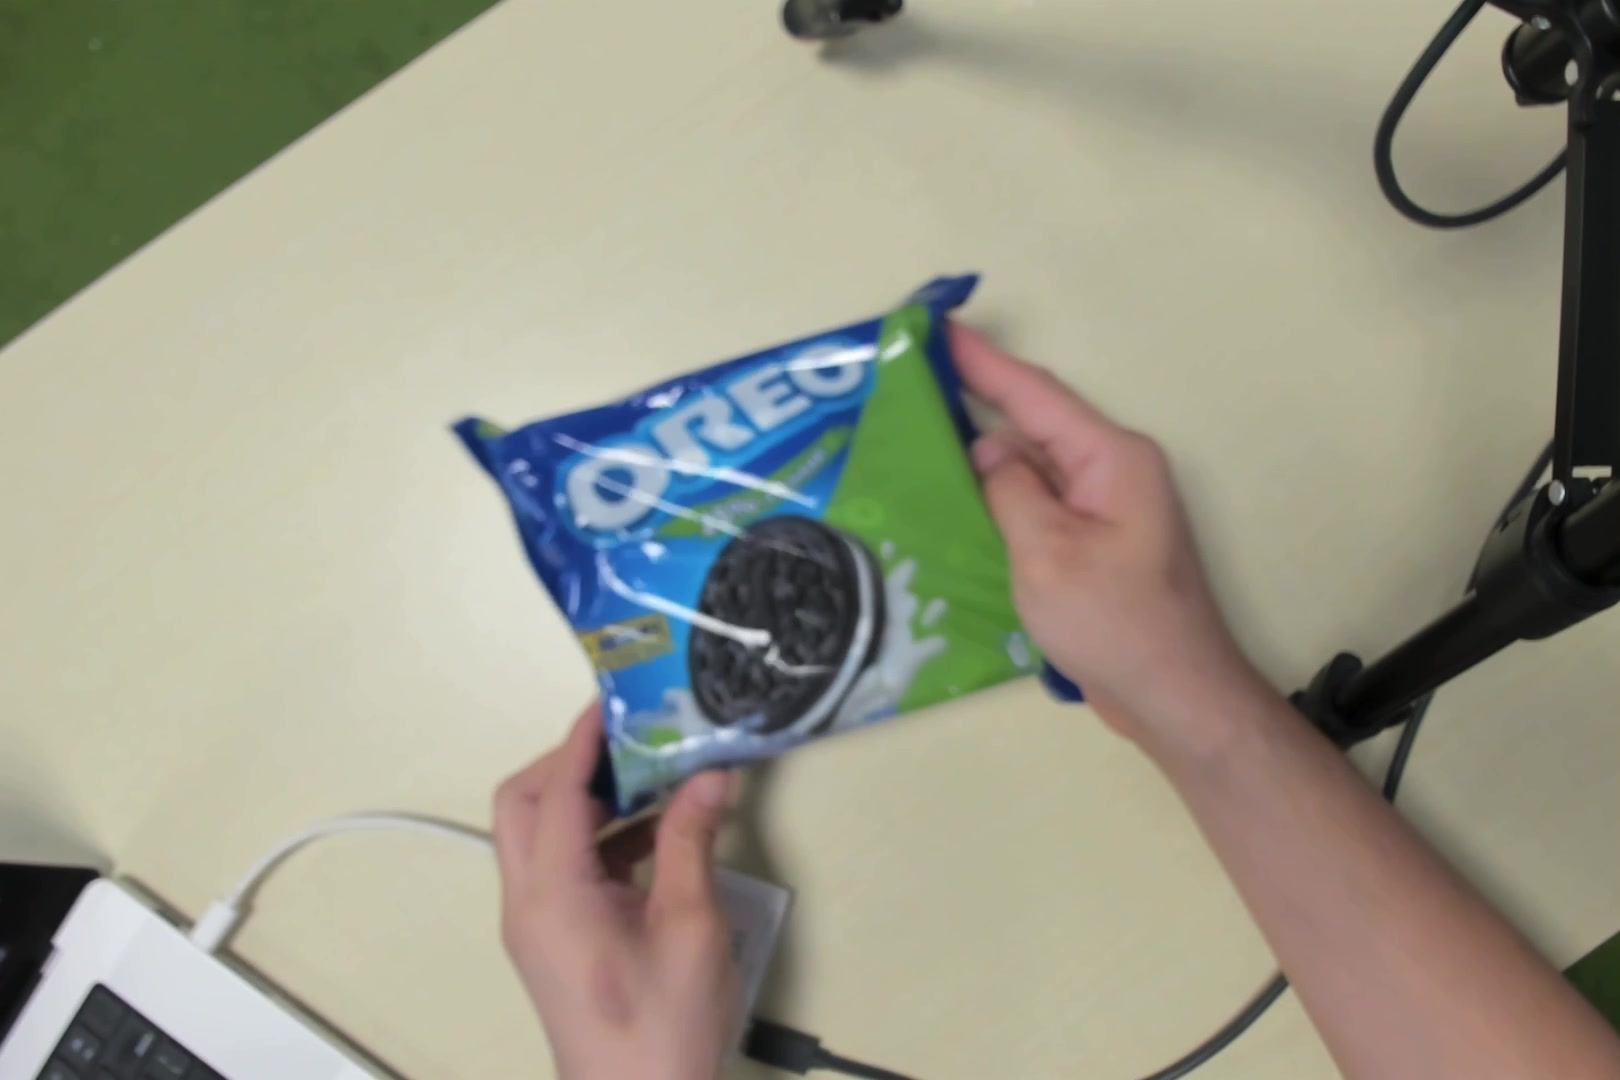SweetsChocolatesOthers_200-299g_Halal_NonHealthy: (542, 337, 1031, 740)
